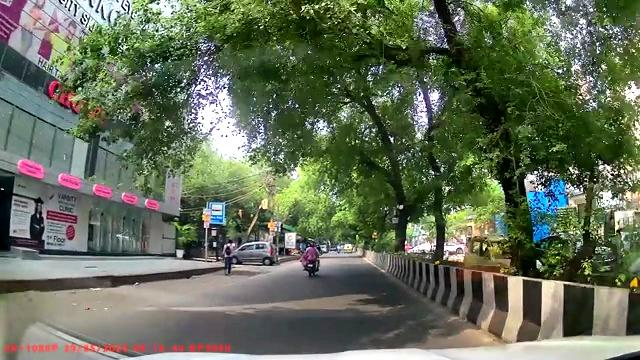passenger_with_helmet: (300, 238, 321, 277)
